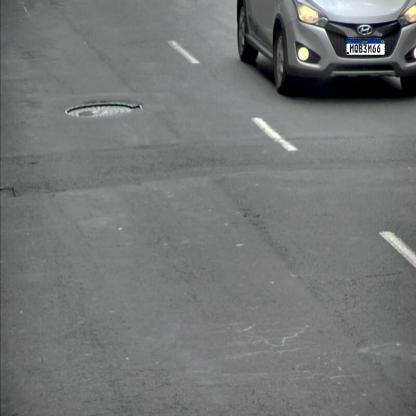PlacaM: (346, 39, 385, 55)
